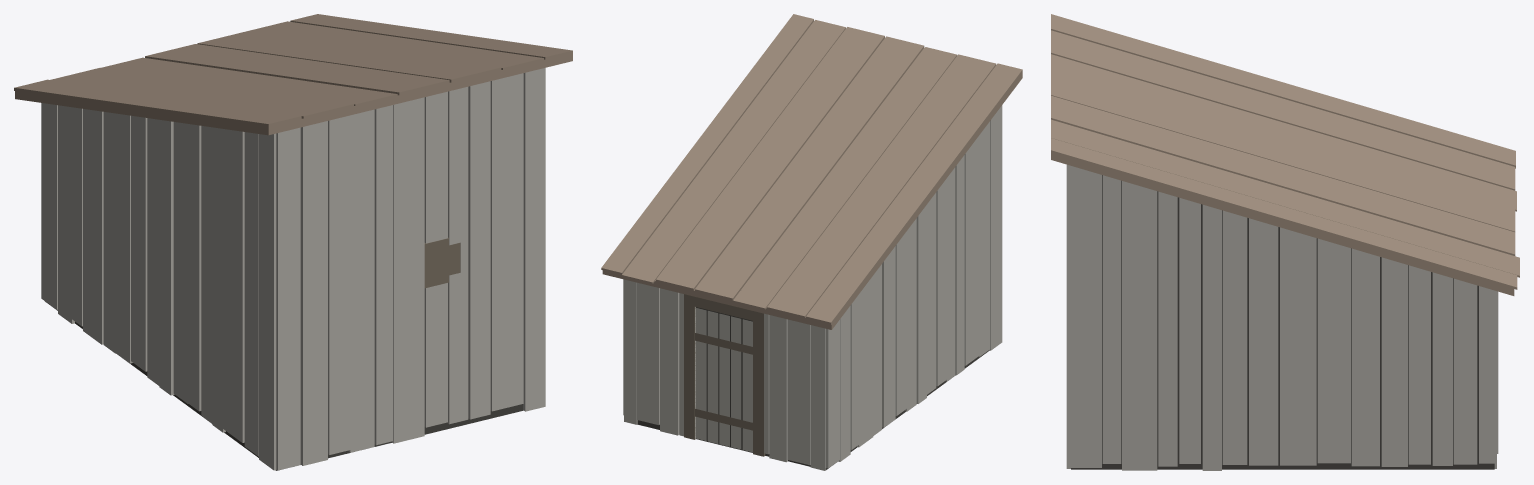
File: recon_1835_south_a4_048__inferred_1835.glb
3 views of the same model, side by side, from view 1: azimuth 30°, elevation 25°; view 2: azimuth 150°, elevation 25°; view 3: azimuth 270°, elevation 25° (orthographic). The views are drawn at different scales.
Visible parts, largest first — view 1: recon_1835_south_a4_048__inferred_1835; view 2: recon_1835_south_a4_048__inferred_1835; view 3: recon_1835_south_a4_048__inferred_1835.
Boxes of the visible parts, x1,y1,x2,y2 form: recon_1835_south_a4_048__inferred_1835: (14, 14, 572, 470); recon_1835_south_a4_048__inferred_1835: (601, 14, 1022, 470); recon_1835_south_a4_048__inferred_1835: (1051, 14, 1519, 470).
Size of the model in its own units: 3.38 by 3.82 by 4.94.
